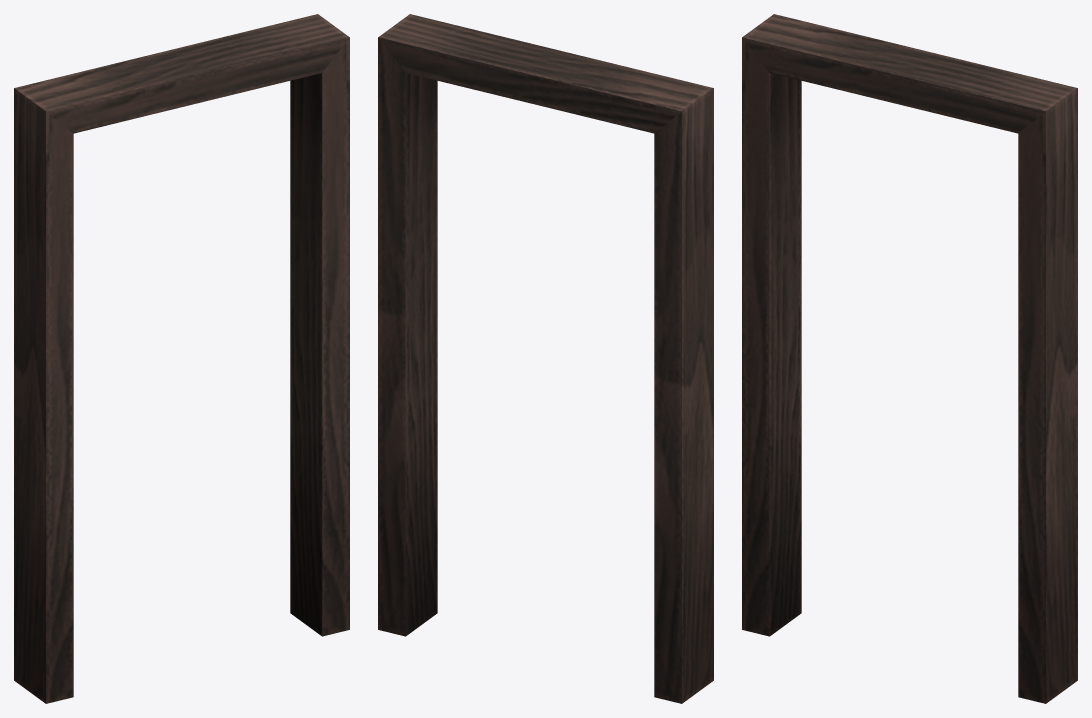
Rendered from Doorframe_3x1.5.fbx.
3 renders of one model, left to right at view 1: azimuth 30°, elevation 25°; view 2: azimuth 150°, elevation 25°; view 3: azimuth 330°, elevation 25°, orthographic.
Visible parts, largest first — view 1: Doorframe_3x1.5; view 2: Doorframe_3x1.5; view 3: Doorframe_3x1.5.
Boxes of the visible parts, left/top/right/bottom form: Doorframe_3x1.5: left=14, top=14, right=349, bottom=703; Doorframe_3x1.5: left=378, top=14, right=713, bottom=703; Doorframe_3x1.5: left=742, top=14, right=1077, bottom=703.
Size of the model in its own units: 110 by 205 by 20.
